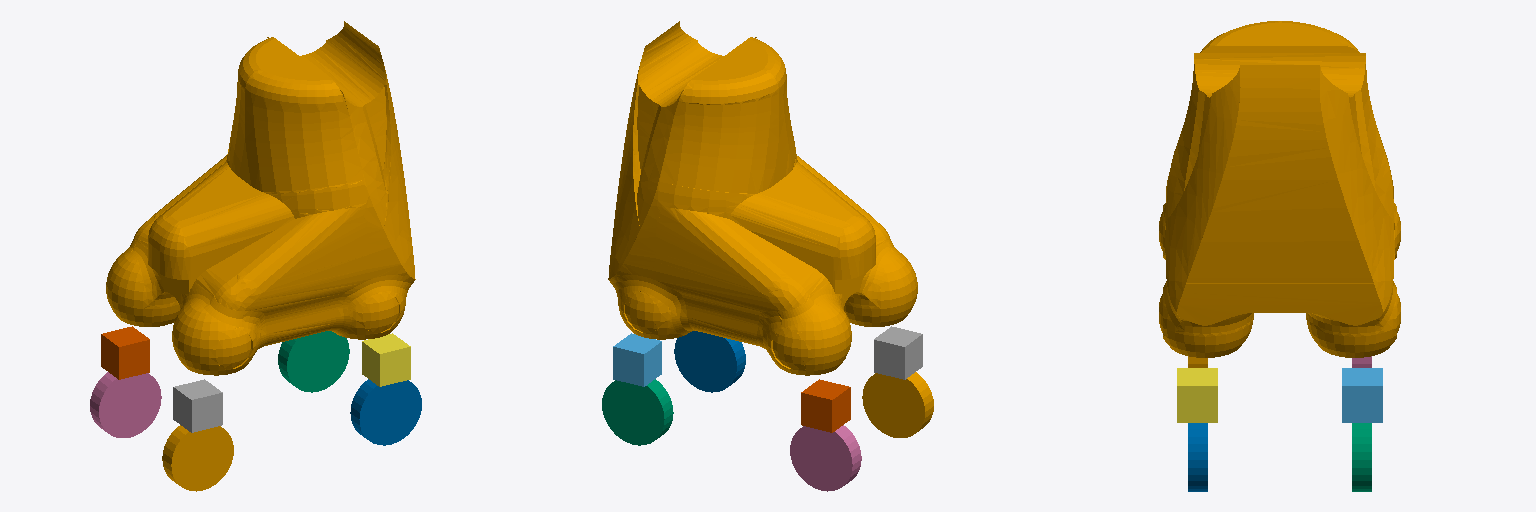
The robot description file, URDF, robot "torso":
<?xml version="1.0"?>
<robot name="torso"
	xmlns:sensor="http://playerstage.sourceforge.net/gazebo/xmlschema/#sensor"
	xmlns:controller="http://playerstage.sourceforge.net/gazebo/xmlschema/#controller"
	xmlns:interface="http://playerstage.sourceforge.net/gazebo/xmlschema/#interface">

	<!-- ################################################################################# -->
	<!-- add links-->
	
	<!-- platform -->
	<link name="link_platform">
		<inertial>
			<origin xyz="0 0 0" rpy="0 0 0"/>
			<mass value="50"/>
			<inertia ixx="1"  ixy="0"  ixz="0" iyy="1" iyz="0" izz="1" />
		</inertial>
		<visual>
			<origin xyz="0 0 0.05" rpy="0 0 0" />
			<geometry>
<!--		        <box size="0.6 0.4 0.3"/> -->
				<mesh filename="package://cob3_defs/common/files/meshes/platform.stl" />
			</geometry>
		</visual>
		<collision>
			<origin xyz="0 0 0.05" rpy="0 0 0" />
			<geometry>
<!--		        <box size="0.6 0.4 0.3"/> -->
				<mesh filename="package://cob3_defs/common/files/meshes/platform.stl" />
			</geometry>
		</collision>
	</link>

	<!-- wheel front left -->
	<link name="link_steerFL">
		<inertial>
			<origin xyz="0 0 0" rpy="0 0 0"/>
			<mass value="3"/>
			<inertia ixx="1"  ixy="0"  ixz="0" iyy="1" iyz="0" izz="1" />
		</inertial>
		<visual>
			<origin xyz="0 0 -0.05" rpy="0 0 0" />
			<geometry>
		        <box size="0.1 0.1 0.1"/>
			</geometry>
		</visual>
		<collision>
			<origin xyz="0 0 -0.05" rpy="0 0 0" />
			<geometry>
		        <box size="0.1 0.1 0.1"/>
			</geometry>
		</collision>
	</link>

	<link name="link_wheelFL">
		<inertial>
			<origin xyz="0 0 0" rpy="0 0 0"/>
			<mass value="1"/>
			<inertia ixx="1"  ixy="0"  ixz="0" iyy="1" iyz="0" izz="1" />
		</inertial>
		<visual>
			<origin xyz="0 0 0.0025" rpy="1.57 0 0" />
			<geometry>
					<cylinder radius="0.1" length="0.05"/>
			</geometry>
		</visual>
		<collision>
			<origin xyz="0 0 0.0025" rpy="1.57 0 0" />
			<geometry>
		        <cylinder radius="0.1" length="0.05"/>
			</geometry>
		</collision>
	</link>
	
	<!-- wheel front right -->
	<link name="link_steerFR">
		<inertial>
			<origin xyz="0 0 0" rpy="0 0 0"/>
			<mass value="3"/>
			<inertia ixx="1"  ixy="0"  ixz="0" iyy="1" iyz="0" izz="1" />
		</inertial>
		<visual>
			<origin xyz="0 0 -0.05" rpy="0 0 0" />
			<geometry>
		        <box size="0.1 0.1 0.1"/>
			</geometry>
		</visual>
		<collision>
			<origin xyz="0 0 -0.05" rpy="0 0 0" />
			<geometry>
		        <box size="0.1 0.1 0.1"/>
			</geometry>
		</collision>
	</link>

	<link name="link_wheelFR">
		<inertial>
			<origin xyz="0 0 0" rpy="0 0 0"/>
			<mass value="1"/>
			<inertia ixx="1"  ixy="0"  ixz="0" iyy="1" iyz="0" izz="1" />
		</inertial>
		<visual>
			<origin xyz="0 0 0.0025" rpy="1.57 0 0" />
			<geometry>
					<cylinder radius="0.1" length="0.05"/>
			</geometry>
		</visual>
		<collision>
			<origin xyz="0 0 0.0025" rpy="1.57 0 0" />
			<geometry>
		        <cylinder radius="0.1" length="0.05"/>
			</geometry>
		</collision>
	</link>	

	<!-- wheel rear left -->
	<link name="link_steerRL">
		<inertial>
			<origin xyz="0 0 0" rpy="0 0 0"/>
			<mass value="3"/>
			<inertia ixx="1"  ixy="0"  ixz="0" iyy="1" iyz="0" izz="1" />
		</inertial>
		<visual>
			<origin xyz="0 0 -0.05" rpy="0 0 0" />
			<geometry>
		        <box size="0.1 0.1 0.1"/>
			</geometry>
		</visual>
		<collision>
			<origin xyz="0 0 -0.05" rpy="0 0 0" />
			<geometry>
		        <box size="0.1 0.1 0.1"/>
			</geometry>
		</collision>
	</link>

	<link name="link_wheelRL">
		<inertial>
			<origin xyz="0 0 0" rpy="0 0 0"/>
			<mass value="1"/>
			<inertia ixx="1"  ixy="0"  ixz="0" iyy="1" iyz="0" izz="1" />
		</inertial>
		<visual>
			<origin xyz="0 0 0.0025" rpy="1.57 0 0" />
			<geometry>
					<cylinder radius="0.1" length="0.05"/>
			</geometry>
		</visual>
		<collision>
			<origin xyz="0 0 0.0025" rpy="1.57 0 0" />
			<geometry>
		        <cylinder radius="0.1" length="0.05"/>
			</geometry>
		</collision>
	</link>
	
	<!-- wheel rear right -->
	<link name="link_steerRR">
		<inertial>
			<origin xyz="0 0 0" rpy="0 0 0"/>
			<mass value="3"/>
			<inertia ixx="1"  ixy="0"  ixz="0" iyy="1" iyz="0" izz="1" />
		</inertial>
		<visual>
			<origin xyz="0 0 -0.05" rpy="0 0 0" />
			<geometry>
		        <box size="0.1 0.1 0.1"/>
			</geometry>
		</visual>
		<collision>
			<origin xyz="0 0 -0.05" rpy="0 0 0" />
			<geometry>
		        <box size="0.1 0.1 0.1"/>
			</geometry>
		</collision>
	</link>

	<link name="link_wheelRR">
		<inertial>
			<origin xyz="0 0 0" rpy="0 0 0"/>
			<mass value="1"/>
			<inertia ixx="1"  ixy="0"  ixz="0" iyy="1" iyz="0" izz="1" />
		</inertial>
		<visual>
			<origin xyz="0 0 0.0025" rpy="1.57 0 0" />
			<geometry>
					<cylinder radius="0.1" length="0.05"/>
			</geometry>
		</visual>
		<collision>
			<origin xyz="0 0 0.0025" rpy="1.57 0 0" />
			<geometry>
		        <cylinder radius="0.1" length="0.05"/>
			</geometry>
		</collision>
	</link>

	<!-- define colors for links -->
	<gazebo reference="link_platform">
		<material>Gazebo/Grey</material>
		<turnGravityOff>false</turnGravityOff>
	</gazebo>

	<gazebo reference="link_steerFL">
		<material>Gazebo/Black</material>
		<turnGravityOff>false</turnGravityOff>
	</gazebo>

	<gazebo reference="link_wheelFL">
		<material>Gazebo/Red</material>
		<turnGravityOff>false</turnGravityOff>
	</gazebo>
	
	<gazebo reference="link_steerFR">
		<material>Gazebo/Black</material>
		<turnGravityOff>false</turnGravityOff>
	</gazebo>

	<gazebo reference="link_wheelFR">
		<material>Gazebo/Red</material>
		<turnGravityOff>false</turnGravityOff>
	</gazebo>
	
	<gazebo reference="link_steerRL">
		<material>Gazebo/Black</material>
		<turnGravityOff>false</turnGravityOff>
	</gazebo>

	<gazebo reference="link_wheelRL">
		<material>Gazebo/Red</material>
		<turnGravityOff>false</turnGravityOff>
	</gazebo>
	
	<gazebo reference="link_steerRR">
		<material>Gazebo/Black</material>
		<turnGravityOff>false</turnGravityOff>
	</gazebo>

	<gazebo reference="link_wheelRR">
		<material>Gazebo/Red</material>
		<turnGravityOff>false</turnGravityOff>
	</gazebo>

	<!-- ################################################################################# -->
	<!-- add joints -->
	
	<!-- wheel front left -->
	<joint name="joint_platform_steerFL" type="continuous">
		<origin xyz="0.3 0.2 0" rpy="0 0 0" />
		<parent link="link_platform"/>
		<child link="link_steerFL"/>
		<axis xyz="0 0 1" />
	    <calibration reference_position="0.0"/>
		<limit effort="100" lower="-1" upper="1" velocity="5"/>
	</joint>
	
	<joint name="joint_steerFL_wheelFL" type="continuous">
		<origin xyz="0 0 -0.2" rpy="0 0 0" />
		<parent link="link_steerFL"/>
		<child link="link_wheelFL"/>
		<axis xyz="0 1 0" />
	    <calibration reference_position="0.0"/>
		<limit effort="100" lower="-1" upper="1" velocity="5"/>
	</joint>

	<!-- wheel front right -->
	<joint name="joint_platform_steerFR" type="continuous">
		<origin xyz="0.3 -0.2 0" rpy="0 0 0" />
		<parent link="link_platform"/>
		<child link="link_steerFR"/>
		<axis xyz="0 0 1" />
	    <calibration reference_position="0.0"/>
		<limit effort="100" lower="-1" upper="1" velocity="5"/>
	</joint>
	
	<joint name="joint_steerFR_wheelFR" type="continuous">
		<origin xyz="0 0 -0.2" rpy="0 0 0" />
		<parent link="link_steerFR"/>
		<child link="link_wheelFR"/>
		<axis xyz="0 1 0" />
	    <calibration reference_position="0.0"/>
		<limit effort="100" lower="-1" upper="1" velocity="5"/>
	</joint>
	
	<!-- wheel rear left -->
	<joint name="joint_platform_steerRL" type="continuous">
		<origin xyz="-0.3 0.2 0" rpy="0 0 0" />
		<parent link="link_platform"/>
		<child link="link_steerRL"/>
		<axis xyz="0 0 1" />
	    <calibration reference_position="0.0"/>
		<limit effort="100" lower="-1" upper="1" velocity="5"/>
	</joint>
	
	<joint name="joint_steerRL_wheelRL" type="continuous">
		<origin xyz="0 0 -0.2" rpy="0 0 0" />
		<parent link="link_steerRL"/>
		<child link="link_wheelRL"/>
		<axis xyz="0 1 0" />
	    <calibration reference_position="0.0"/>
		<limit effort="100" lower="-1" upper="1" velocity="5"/>
	</joint>

	<!-- wheel rear right -->
	<joint name="joint_platform_steerRR" type="continuous">
		<origin xyz="-0.3 -0.2 0" rpy="0 0 0" />
		<parent link="link_platform"/>
		<child link="link_steerRR"/>
		<axis xyz="0 0 1" />
	    <calibration reference_position="0.0"/>
		<limit effort="100" lower="-1" upper="1" velocity="5"/>
	</joint>
	
	<joint name="joint_steerRR_wheelRR" type="continuous">
		<origin xyz="0 0 -0.2" rpy="0 0 0" />
		<parent link="link_steerRR"/>
		<child link="link_wheelRR"/>
		<axis xyz="0 1 0" />
	    <calibration reference_position="0.0"/>
		<limit effort="100" lower="-1" upper="1" velocity="5"/>
	</joint>

	<!-- ################################################################################# -->
	<!-- add transmissions -->
	
	<!-- wheel front left -->
	<transmission name="trans_platform_steerFL" type="SimpleTransmission">
		<actuator name="motor_platform_steerFL"/>
		<joint name="joint_platform_steerFL"/>
		<mechanicalReduction>1</mechanicalReduction>
	</transmission>

	<transmission name="trans_steerFL_wheelFL" type="SimpleTransmission">
		<actuator name="motor_steerFL_wheelFL"/>
		<joint name="joint_steerFL_wheelFL"/>
		<mechanicalReduction>1</mechanicalReduction>
	</transmission>
	
	<!-- wheel front right -->
	<transmission name="trans_platform_steerFR" type="SimpleTransmission">
		<actuator name="motor_platform_steerFR"/>
		<joint name="joint_platform_steerFR"/>
		<mechanicalReduction>1</mechanicalReduction>
	</transmission>

	<transmission name="trans_steerFR_wheelFR" type="SimpleTransmission">
		<actuator name="motor_steerFR_wheelFR"/>
		<joint name="joint_steerFR_wheelFR"/>
		<mechanicalReduction>1</mechanicalReduction>
	</transmission>
	
	<!-- wheel rear left -->
	<transmission name="trans_platform_steerRL" type="SimpleTransmission">
		<actuator name="motor_platform_steerRL"/>
		<joint name="joint_platform_steerRL"/>
		<mechanicalReduction>1</mechanicalReduction>
	</transmission>

	<transmission name="trans_steerRL_wheelRL" type="SimpleTransmission">
		<actuator name="motor_steerRL_wheelRL"/>
		<joint name="joint_steerRL_wheelRL"/>
		<mechanicalReduction>1</mechanicalReduction>
	</transmission>
	
	<!-- wheel rear right -->
	<transmission name="trans_platform_steerRR" type="SimpleTransmission">
		<actuator name="motor_platform_steerRR"/>
		<joint name="joint_platform_steerRR"/>
		<mechanicalReduction>1</mechanicalReduction>
	</transmission>

	<transmission name="trans_steerRR_wheelRR" type="SimpleTransmission">
		<actuator name="motor_steerRR_wheelRR"/>
		<joint name="joint_steerRR_wheelRR"/>
		<mechanicalReduction>1</mechanicalReduction>
	</transmission>

</robot>

--- Render facts (derived) ---
Views: 3 orthographic renders of the robot side by side, from view 1: azimuth 30°, elevation 25°; view 2: azimuth 150°, elevation 25°; view 3: azimuth 270°, elevation 25°.
Model torso with 9 links and 8 joints (8 continuous), rooted at link_platform, posed every joint at zero.
Visible links, largest first — view 1: link_platform, link_wheelFR, link_wheelRL, link_wheelRR, link_wheelFL, link_steerRR, link_steerRL, link_steerFR; view 2: link_platform, link_wheelFL, link_wheelRR, link_wheelRL, link_wheelFR, link_steerRL, link_steerRR, link_steerFL; view 3: link_platform, link_steerFL, link_steerFR, link_wheelFL, link_wheelFR.
Boxes of the visible links, <box> form: link_platform: <box>106,21,415,375</box>; link_wheelFR: <box>350,379,421,445</box>; link_wheelRL: <box>90,372,161,437</box>; link_wheelRR: <box>162,425,233,491</box>; link_wheelFL: <box>278,331,349,392</box>; link_steerRR: <box>173,379,222,432</box>; link_steerRL: <box>101,326,149,379</box>; link_steerFR: <box>362,333,410,386</box>; link_platform: <box>608,21,917,375</box>; link_wheelFL: <box>602,379,673,445</box>; link_wheelRR: <box>862,372,933,437</box>; link_wheelRL: <box>790,425,861,491</box>; link_wheelFR: <box>674,331,745,392</box>; link_steerRL: <box>801,379,850,432</box>; link_steerRR: <box>874,326,922,379</box>; link_steerFL: <box>613,333,661,386</box>; link_platform: <box>1159,21,1400,357</box>; link_steerFL: <box>1342,368,1382,422</box>; link_steerFR: <box>1177,368,1217,422</box>; link_wheelFL: <box>1352,423,1371,491</box>; link_wheelFR: <box>1188,423,1207,491</box>.
Size in the robot's own frame: 0.8 by 0.5922 by 1.15 metres.
1 mesh visuals loaded from 1 distinct referenced files (1 binary STL).